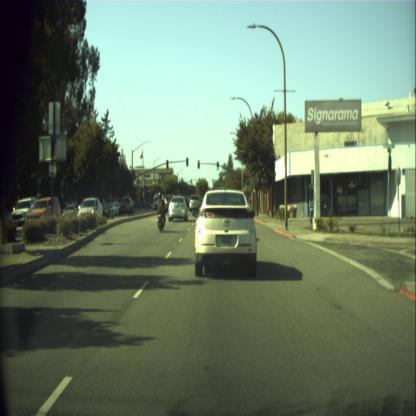Green: (216, 160, 219, 170), (245, 178, 247, 184), (245, 184, 247, 188)
Red: (197, 160, 200, 168), (141, 184, 143, 192)
